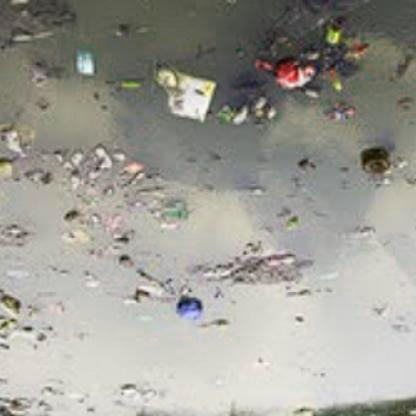Plastic: (176, 298, 206, 320)
Trash: (156, 62, 218, 124), (273, 59, 316, 93), (72, 45, 98, 78)
